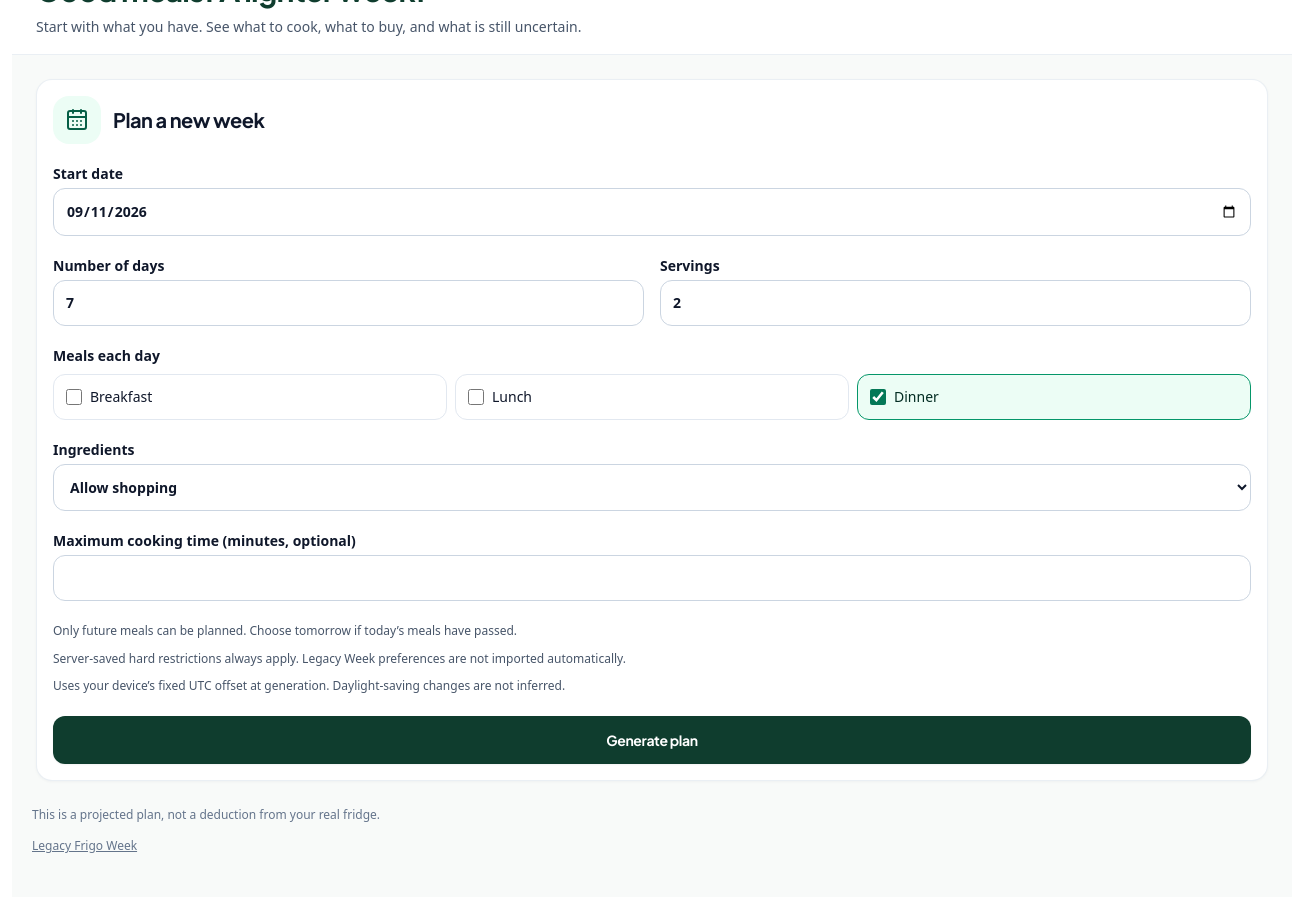
Test: mounted planner generation interactions › rate-limited creation remains on setup with a safe message and no automatic retries
(page scrolled)
Click the button "Generate plan" at {"x": 652, "y": 740}, box [53, 716, 1251, 764]
(page scrolled)
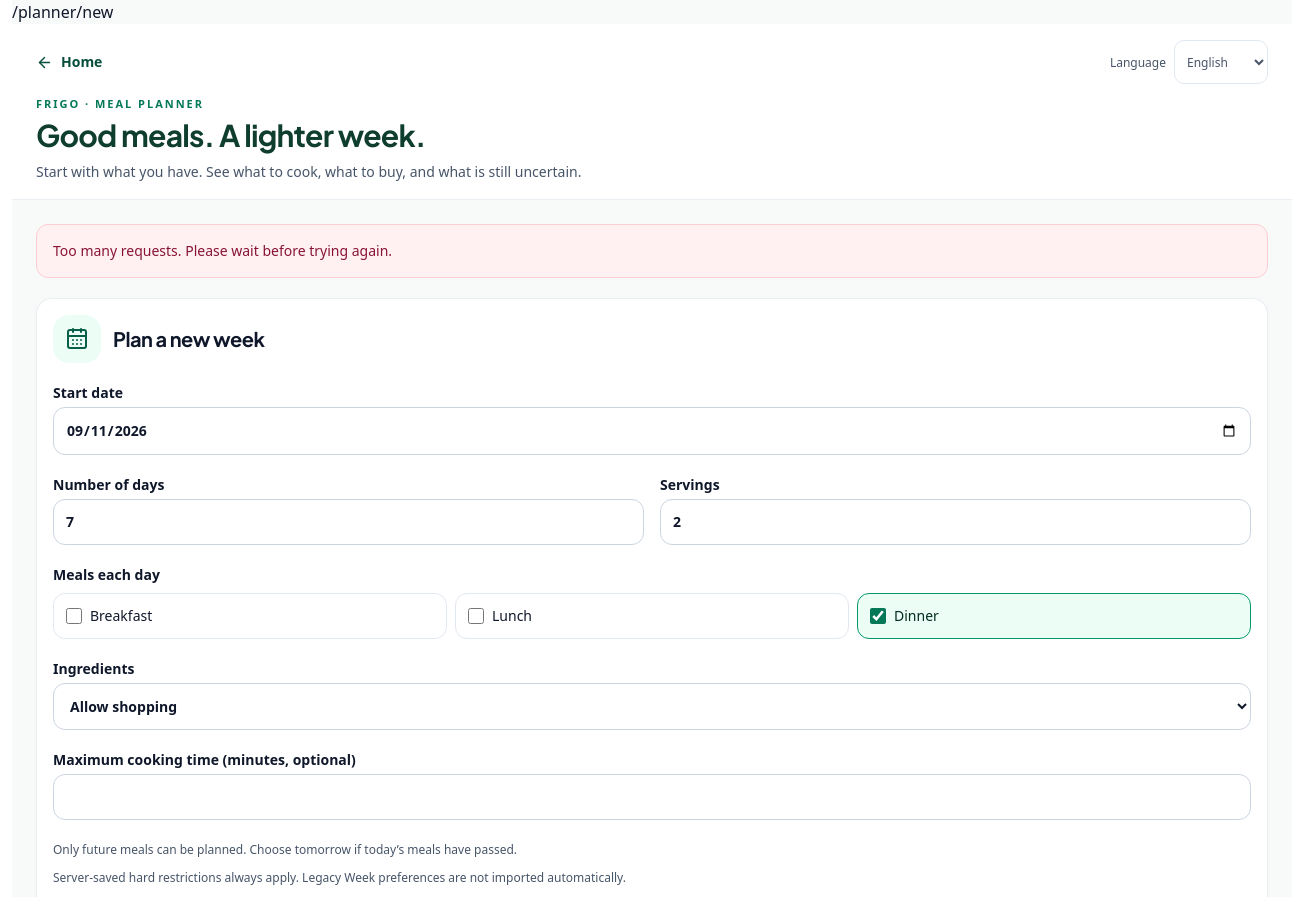
Expected: the text with test id "location" reads "/planner/new", [12, 1, 113, 23]
Result: the text "Too many requests" is shown at [53, 241, 392, 260]
